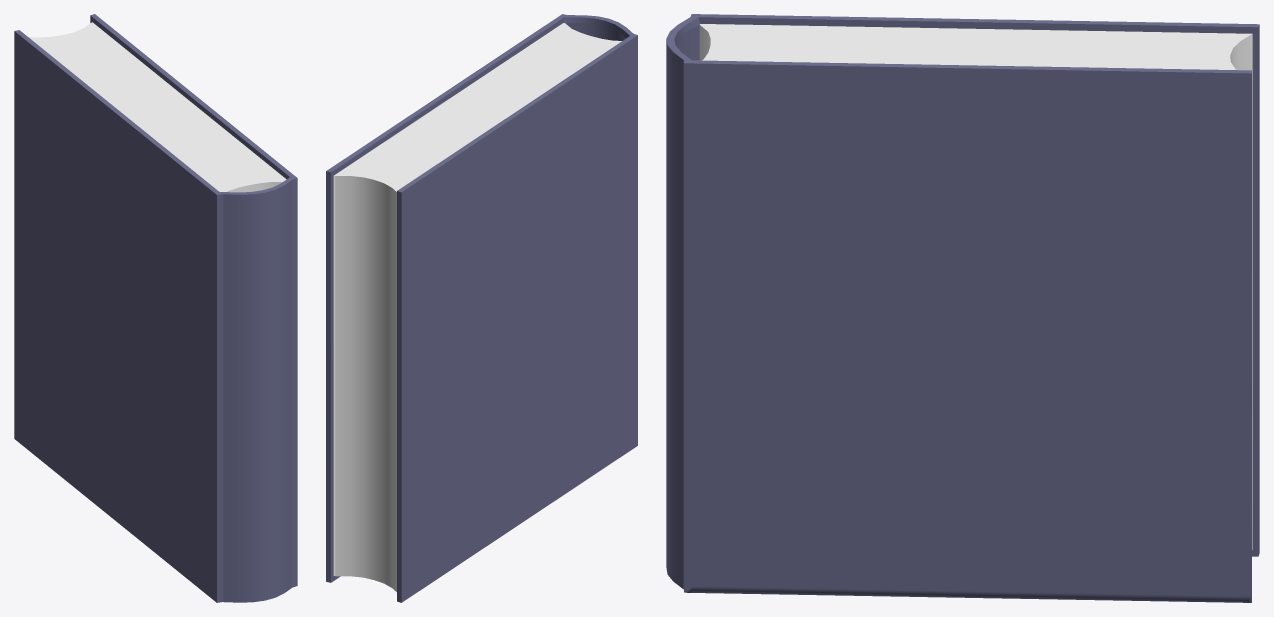
The model's file is book.glb.
The picture shows the model from 3 angles, left to right: view 1: azimuth 30°, elevation 25°; view 2: azimuth 150°, elevation 25°; view 3: azimuth 270°, elevation 25°; orthographic projection. The views are drawn at different scales.
Parts seen in each view (by area): view 1: Books_Dominos:transform1_3; view 2: Books_Dominos:transform1_3; view 3: Books_Dominos:transform1_3.
Boxes of the visible parts, x1,y1,x2,y2 form: Books_Dominos:transform1_3: (14, 14, 297, 602); Books_Dominos:transform1_3: (326, 14, 637, 602); Books_Dominos:transform1_3: (666, 14, 1259, 602).
Bounding box in the file's own units: 0.0396 × 0.1644 × 0.1668.
